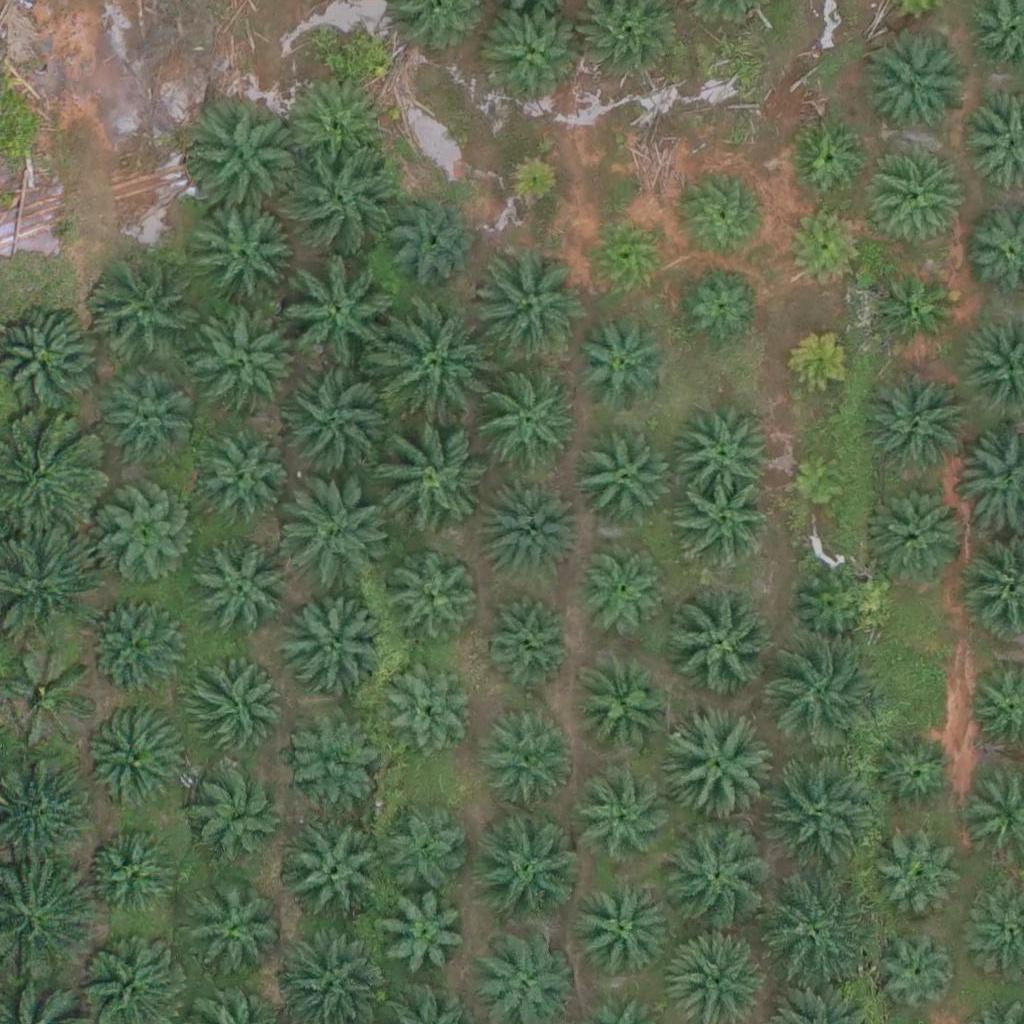Kelapa_Sawit: (860, 364, 973, 478), (767, 757, 880, 871), (664, 585, 777, 699), (657, 713, 770, 826), (279, 365, 392, 478), (376, 312, 489, 425), (282, 261, 395, 374), (187, 104, 300, 217), (278, 482, 390, 596), (770, 636, 882, 749), (758, 876, 870, 989), (660, 820, 772, 933), (372, 421, 484, 534), (473, 248, 585, 361), (288, 144, 400, 257), (190, 294, 302, 407), (84, 257, 196, 370), (873, 481, 973, 582), (673, 401, 773, 502), (567, 314, 667, 415), (574, 430, 674, 531), (574, 654, 674, 755), (576, 771, 676, 872), (572, 882, 672, 983), (480, 370, 580, 471), (477, 703, 577, 804), (476, 822, 576, 923), (385, 543, 485, 644), (285, 598, 385, 699), (289, 827, 389, 928), (190, 540, 290, 641), (182, 660, 282, 761), (187, 760, 287, 861), (88, 595, 188, 696), (85, 711, 185, 812), (863, 37, 963, 138), (862, 145, 962, 246), (287, 74, 387, 175), (195, 208, 295, 309), (476, 485, 576, 585), (281, 710, 381, 810), (91, 490, 191, 590), (486, 4, 586, 104), (577, 552, 665, 641), (876, 837, 964, 925), (872, 931, 960, 1019), (790, 566, 878, 654), (682, 481, 770, 569), (482, 596, 570, 684), (87, 836, 175, 924), (681, 169, 769, 257), (681, 261, 769, 349), (779, 201, 867, 289), (787, 112, 875, 200), (394, 194, 482, 282), (871, 734, 958, 822), (383, 664, 470, 752), (383, 805, 470, 893), (380, 893, 467, 981), (202, 435, 289, 523), (191, 888, 278, 976), (104, 380, 191, 468), (582, 211, 669, 299), (872, 261, 959, 349), (784, 323, 859, 399), (499, 152, 562, 215), (789, 452, 851, 515)
